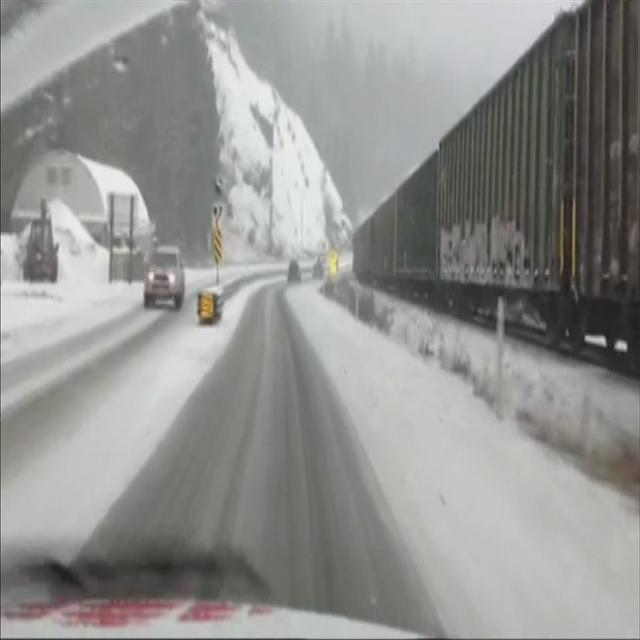car: (143, 244, 185, 310)
